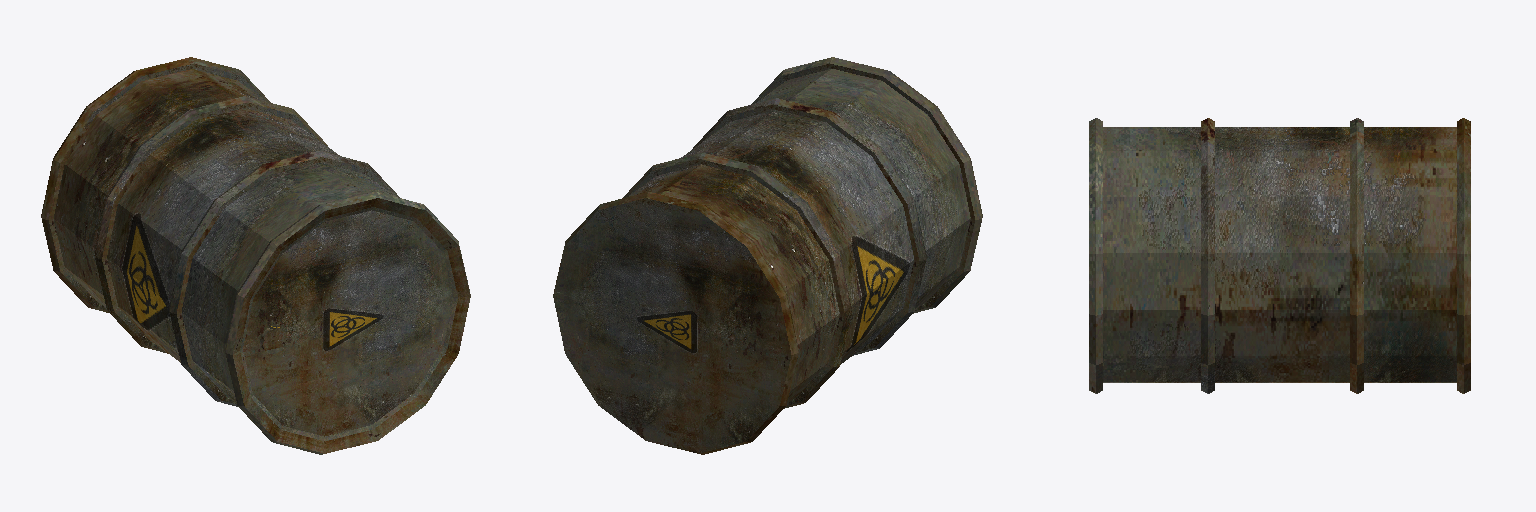
The picture shows the model from 3 angles: view 1: azimuth 30°, elevation 25°; view 2: azimuth 150°, elevation 25°; view 3: azimuth 270°, elevation 25°; orthographic projection.
Parts seen in each view (by area): view 1: Cylinder01; view 2: Cylinder01; view 3: Cylinder01.
Part boxes in pixels (bbox=[...]): Cylinder01: bbox=[41, 57, 470, 454]; Cylinder01: bbox=[553, 57, 982, 454]; Cylinder01: bbox=[1089, 118, 1470, 393].
Size of the model in its own units: 0.6768 by 0.6598 by 0.9146.
1 materials, 1 textured.